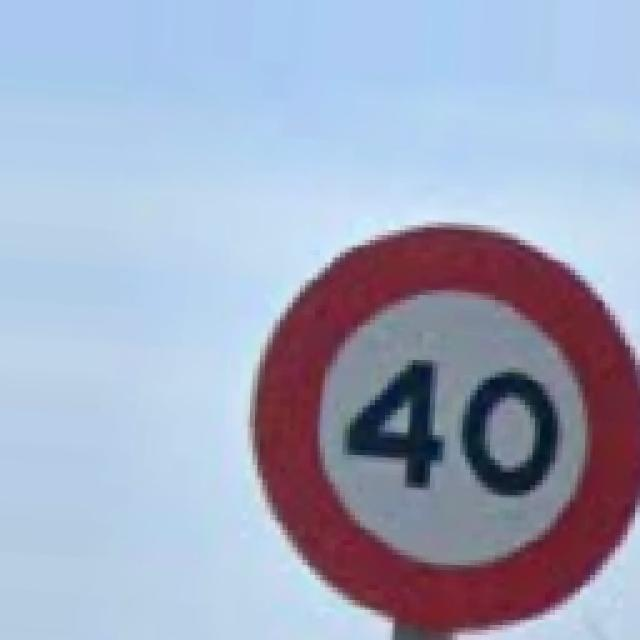Speed Limit -40-: (255, 228, 638, 628)
